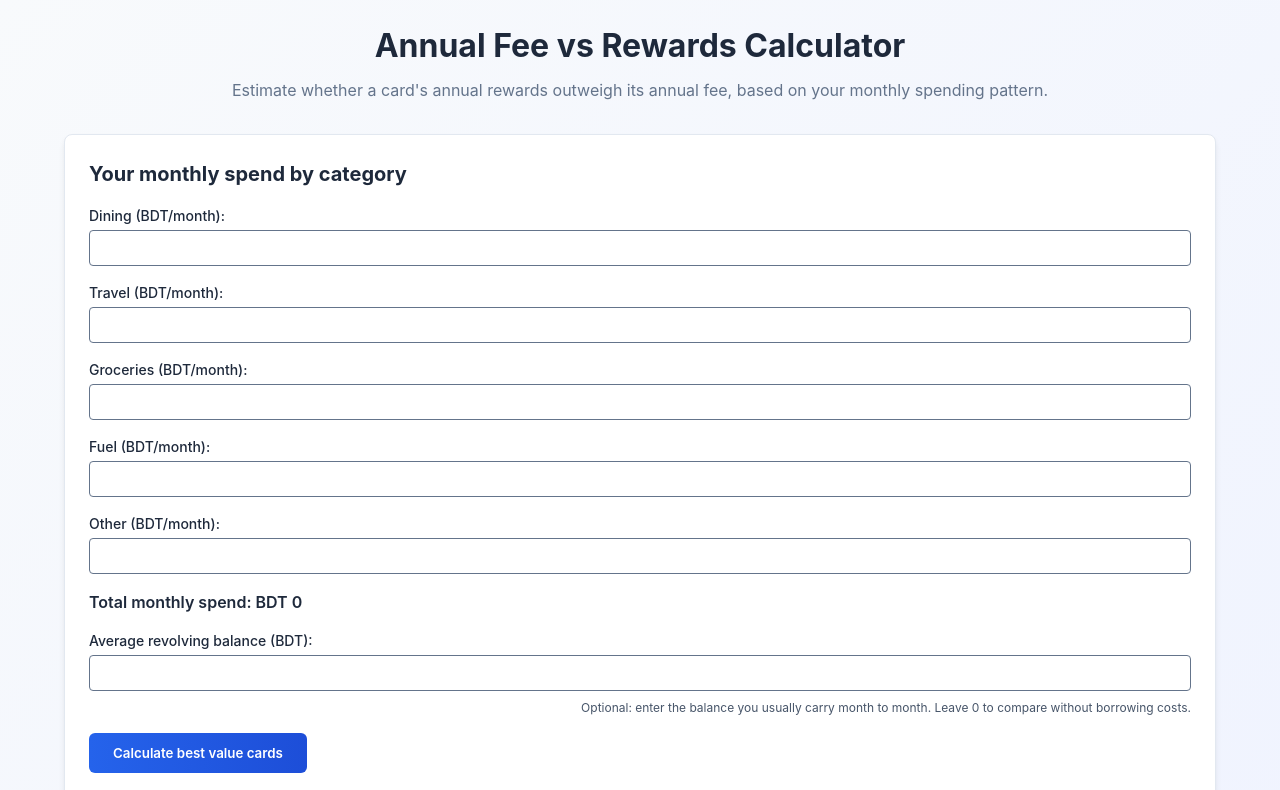
caps cashback at the bank-stated monthly cap and skips the break-even
This screenshot has width=1280, height=790.
Check: the button "Calculate best value cards" is shown, box [89,733,307,773]
In the number field labelled "Dining (BDT/month):": [640, 248] box [89,230,1191,266], type "50000"
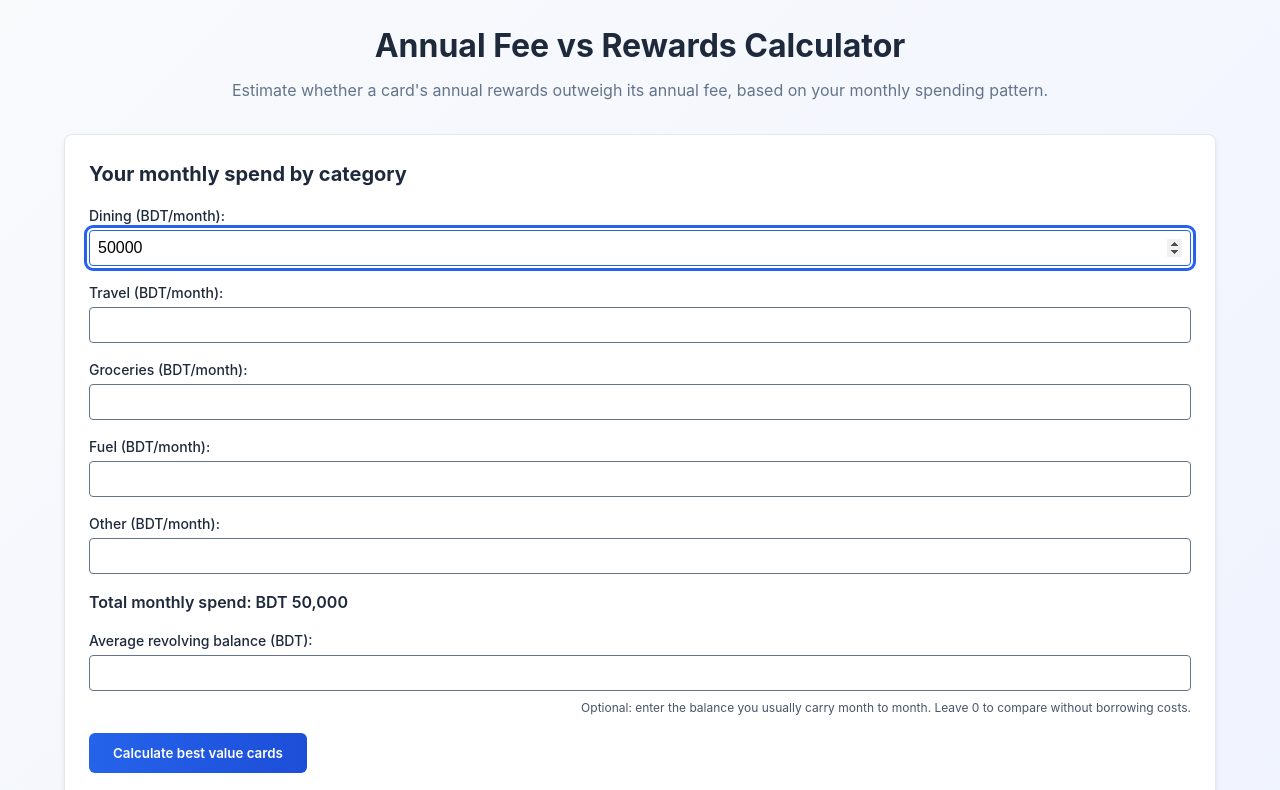
Click the button "Calculate best value cards": [198, 753] box [89,733,307,773]
(page scrolled)
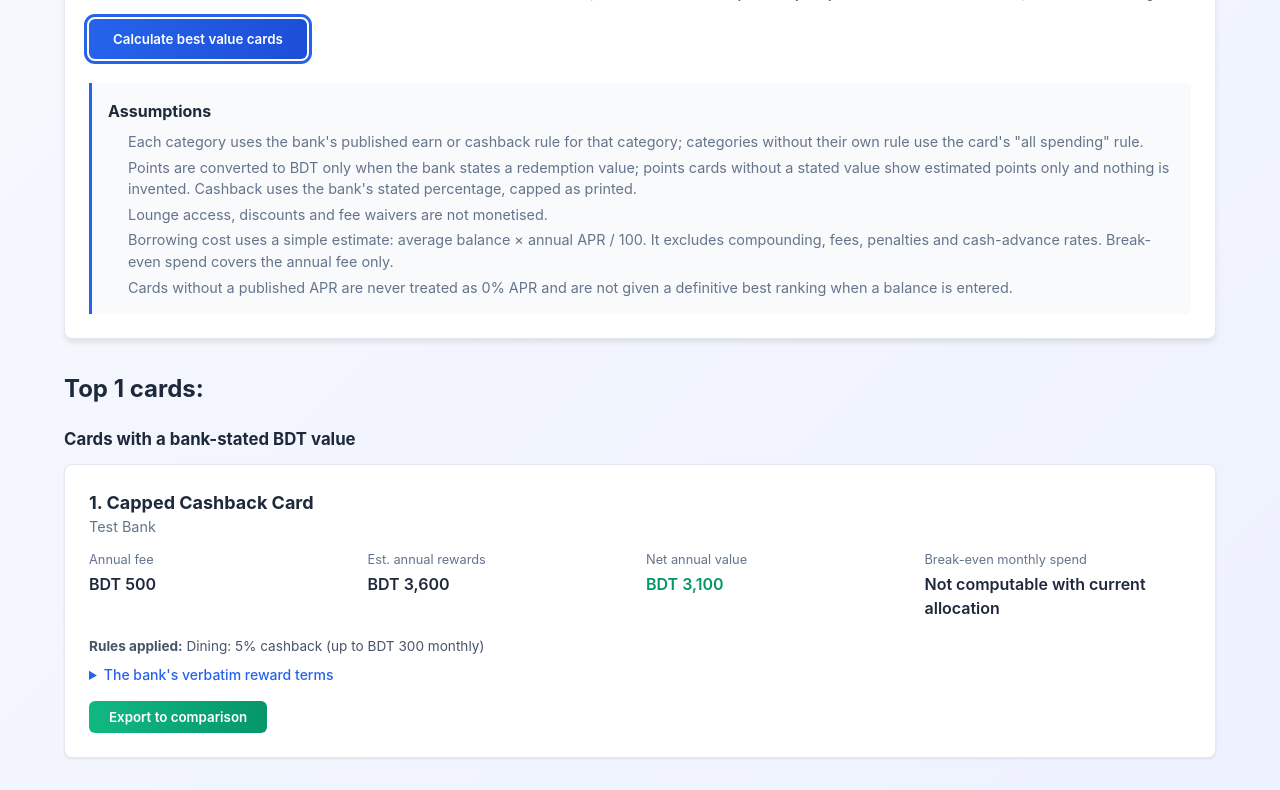
Check: the heading "Top 1 cards:" is shown, box [64,374,204,403]
Check: the list item "Capped Cashback Card" shows "BDT 3,600", box [368,574,450,594]
Check: the list item "Capped Cashback Card" shows "Dining: 5% cashback (up to BDT 300 monthly)", box [186,638,484,654]
